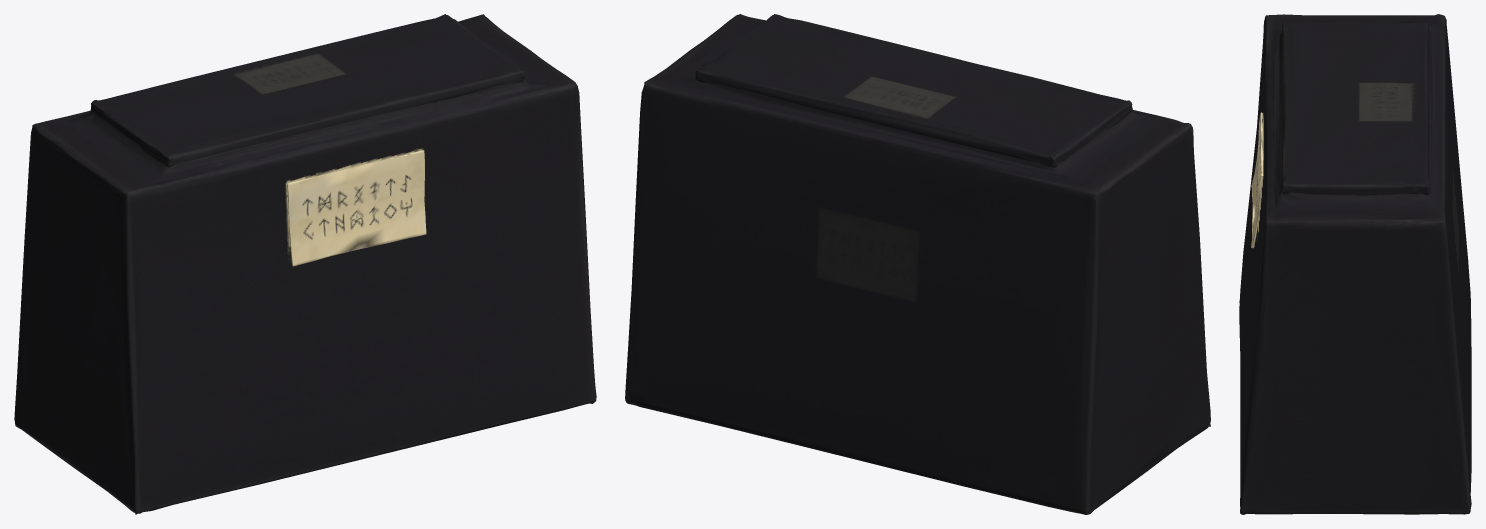
The model's file is objectDisplayStandLow.obj.
The picture shows the model from 3 angles, left to right: view 1: azimuth 30°, elevation 25°; view 2: azimuth 150°, elevation 25°; view 3: azimuth 270°, elevation 25°; orthographic projection. The views are drawn at different scales.
Visible parts, largest first — view 1: Meshy_AI_Runic_Chest_0716161810_texture; view 2: Meshy_AI_Runic_Chest_0716161810_texture; view 3: Meshy_AI_Runic_Chest_0716161810_texture.
Boxes of the visible parts, bbox=[...] form: Meshy_AI_Runic_Chest_0716161810_texture: bbox=[14, 14, 596, 514]; Meshy_AI_Runic_Chest_0716161810_texture: bbox=[625, 14, 1210, 514]; Meshy_AI_Runic_Chest_0716161810_texture: bbox=[1239, 14, 1471, 514].
Size of the model in its own units: 1 by 0.6816 by 0.4629.
1 material, 1 textured.
